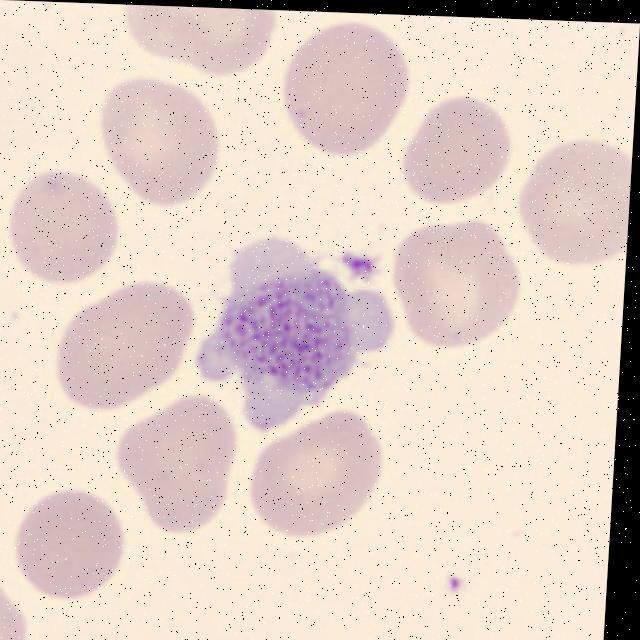platelets: (207, 255, 382, 419)
rbc: (272, 11, 414, 179), (48, 278, 200, 421), (384, 209, 530, 356), (239, 416, 378, 557), (86, 71, 229, 208), (0, 161, 132, 302), (507, 136, 633, 281), (111, 404, 241, 541), (6, 471, 136, 603), (382, 100, 509, 202), (97, 4, 282, 73), (0, 564, 55, 640)
